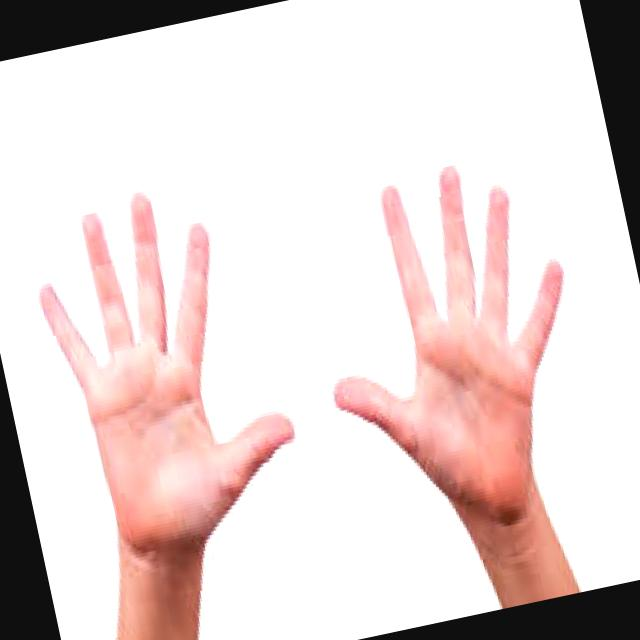Hand: (282, 133, 616, 564), (12, 161, 325, 597)
